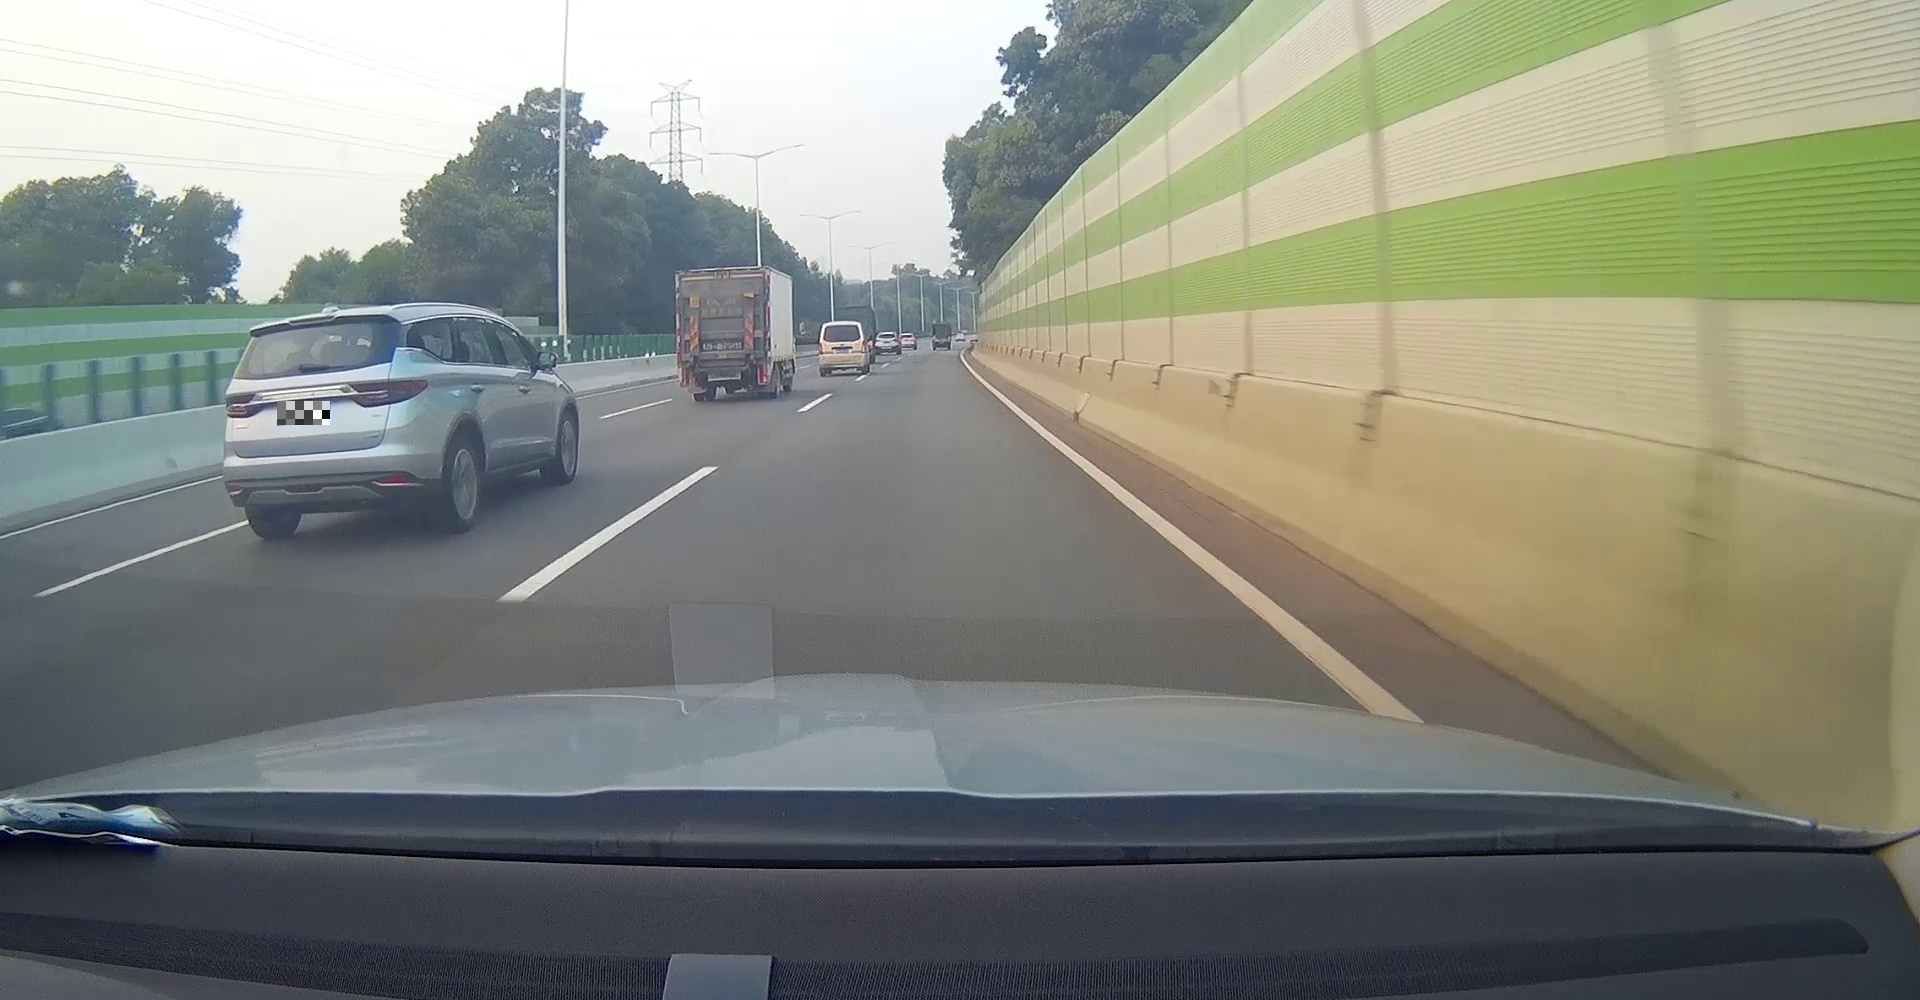L_light: (223, 391, 267, 418), (681, 368, 695, 388), (818, 343, 823, 355)
R_light: (342, 379, 429, 409), (757, 363, 770, 385), (861, 340, 867, 352)
T_light: (290, 315, 337, 325), (712, 270, 730, 277), (838, 324, 846, 325)
day-no: (222, 306, 430, 536), (674, 266, 771, 402), (817, 321, 867, 376)
plate_1: (277, 401, 330, 425)
